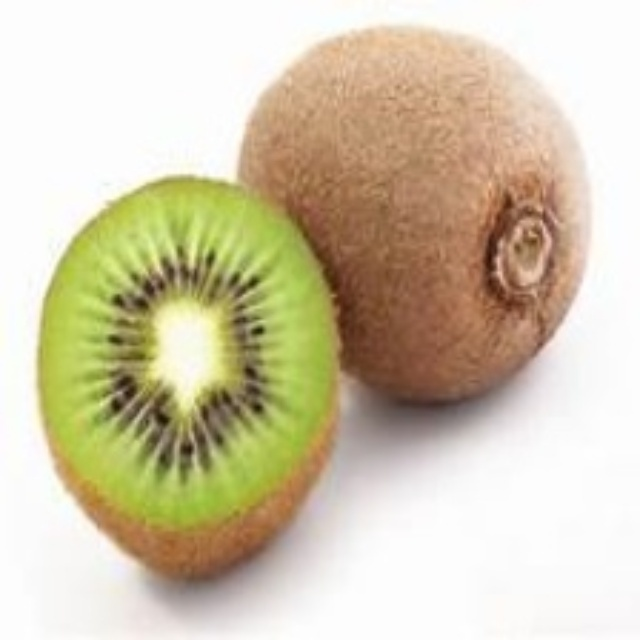kiwi: (224, 28, 587, 405), (37, 181, 344, 580)
